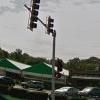Traffic light: (18, 2, 68, 42)
